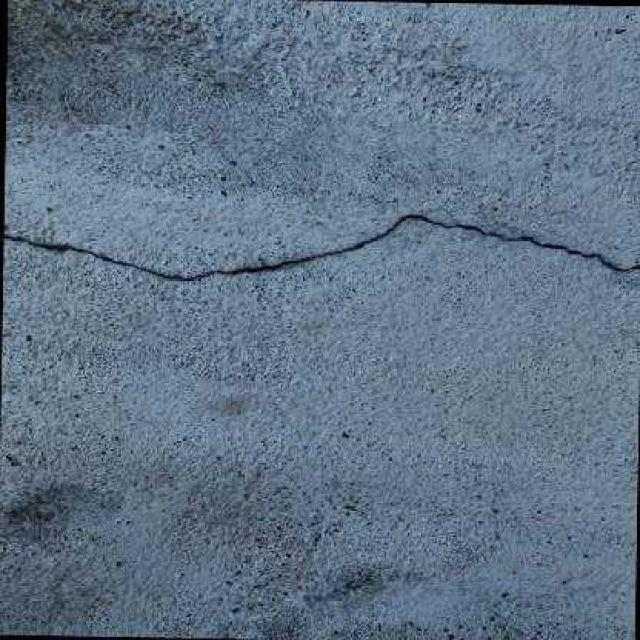D00: (1, 214, 640, 281)
